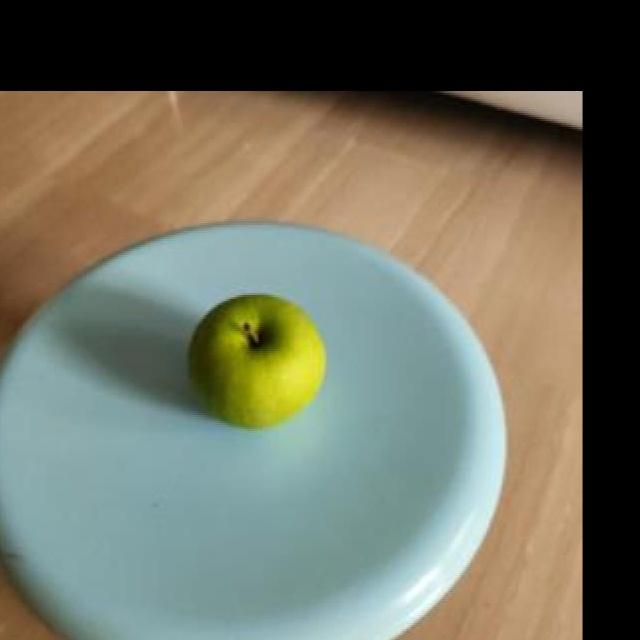green apple: (188, 292, 327, 423)
